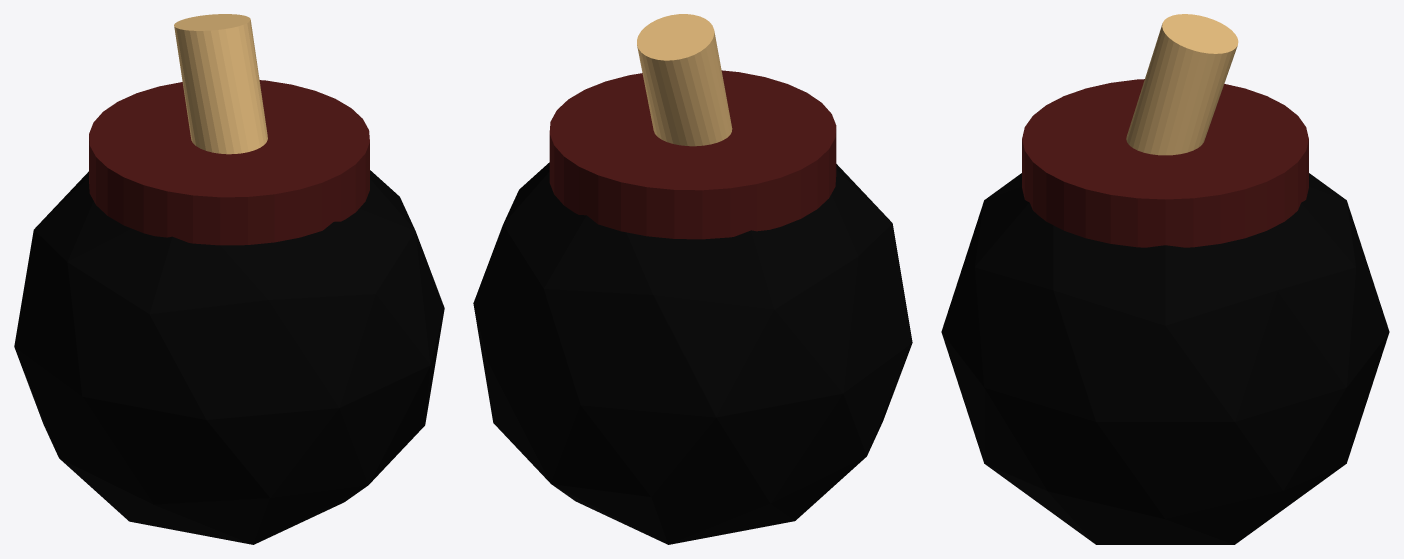
The model's file is bomb.fbx.
The picture shows the model from 3 angles, left to right: view 1: azimuth 30°, elevation 25°; view 2: azimuth 150°, elevation 25°; view 3: azimuth 270°, elevation 25°; orthographic projection. The views are drawn at different scales.
Parts seen in each view (by area): view 1: Icosphere; view 2: Icosphere; view 3: Icosphere.
Part boxes in pixels (x1,y1,x2,y2): Icosphere: (14, 14, 444, 544); Icosphere: (473, 14, 912, 544); Icosphere: (941, 14, 1389, 544).
Size of the model in its own units: 190 by 251 by 200.
